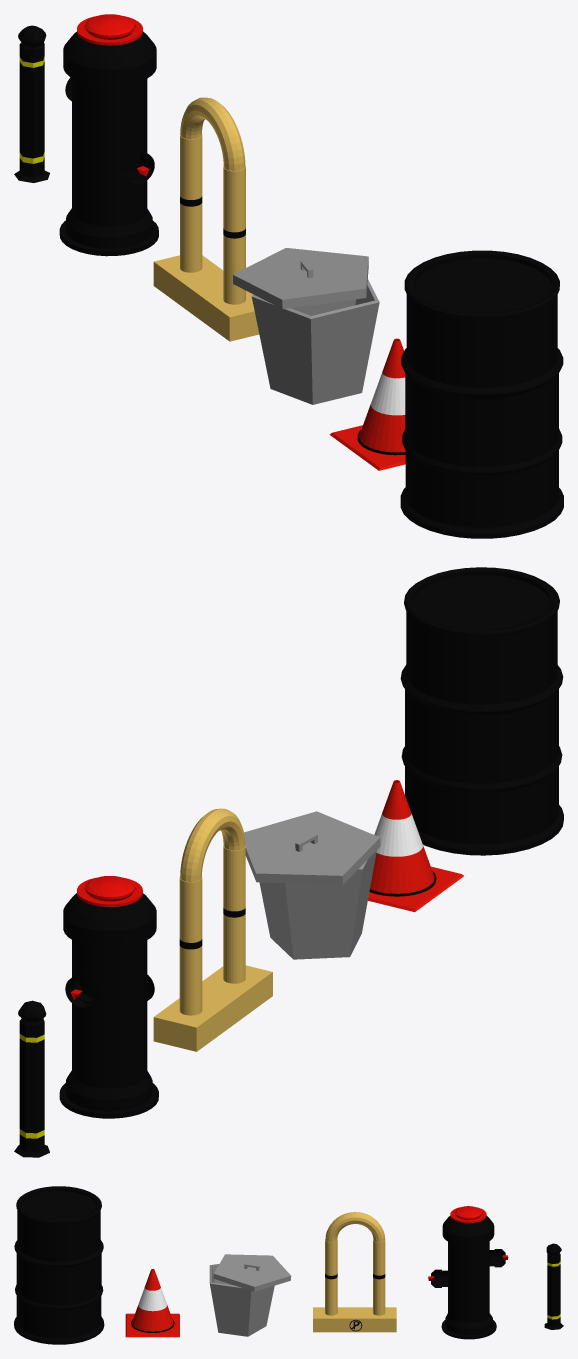
3 renders of one model, top to bottom at view 1: azimuth 30°, elevation 25°; view 2: azimuth 150°, elevation 25°; view 3: azimuth 270°, elevation 25°, orthographic. The views are drawn at different scales.
Parts seen in each view (by area): view 1: Circle, Circle.002, Cylinder, Plane.001, Circle.001, Cylinder.001; view 2: Circle, Circle.002, Cylinder, Plane.001, Circle.001, Cylinder.001; view 3: Circle, Circle.002, Cylinder, Plane.001, Circle.001, Cylinder.001.
Part boxes in pixels (x1,y1,x2,y2): Circle: [400, 250, 563, 538]; Circle.002: [59, 14, 158, 256]; Cylinder: [233, 248, 379, 404]; Plane.001: [153, 97, 259, 341]; Circle.001: [329, 338, 405, 470]; Cylinder.001: [14, 25, 49, 182]; Circle: [400, 567, 563, 855]; Circle.002: [59, 876, 158, 1118]; Cylinder: [244, 811, 380, 959]; Plane.001: [153, 808, 272, 1051]; Circle.001: [368, 780, 463, 912]; Cylinder.001: [14, 1000, 49, 1157]; Circle: [14, 1186, 104, 1344]; Circle.002: [428, 1206, 508, 1339]; Cylinder: [209, 1254, 291, 1336]; Plane.001: [313, 1212, 396, 1332]; Circle.001: [125, 1269, 179, 1337]; Cylinder.001: [544, 1243, 563, 1329].
Bounding box in the file's own units: 200 × 304 × 1219.
